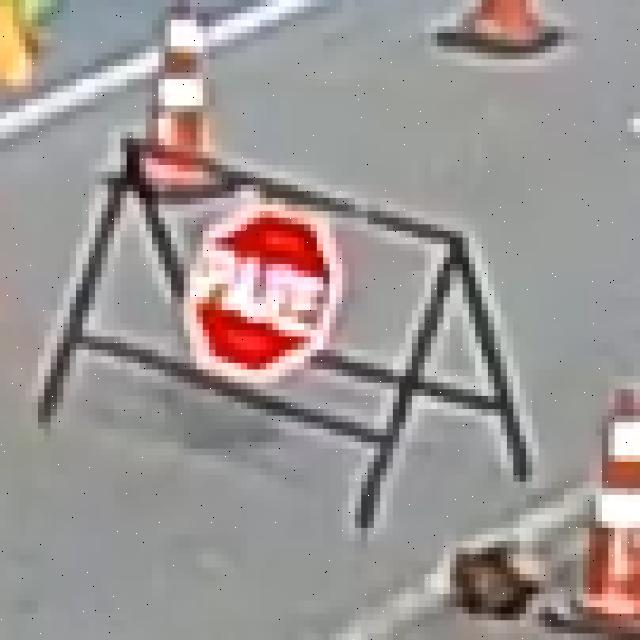small_cone: (139, 0, 228, 198)
stop_sign: (177, 205, 349, 389)
